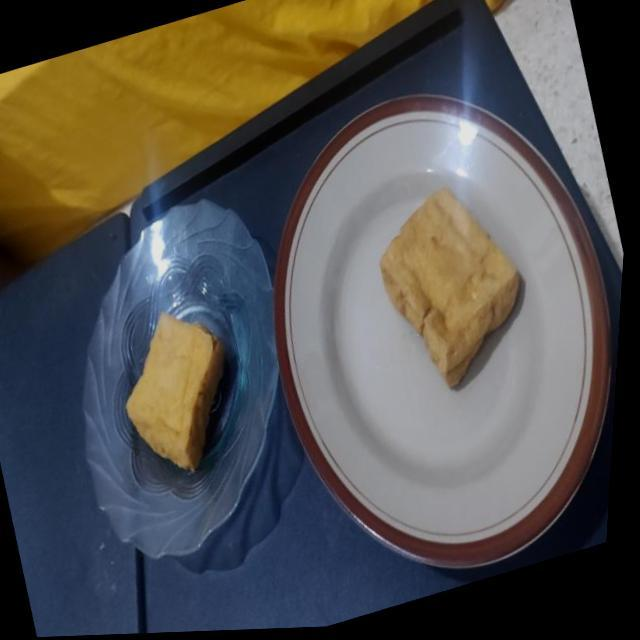tahu_goreng: (379, 186, 518, 388), (126, 312, 224, 471)
